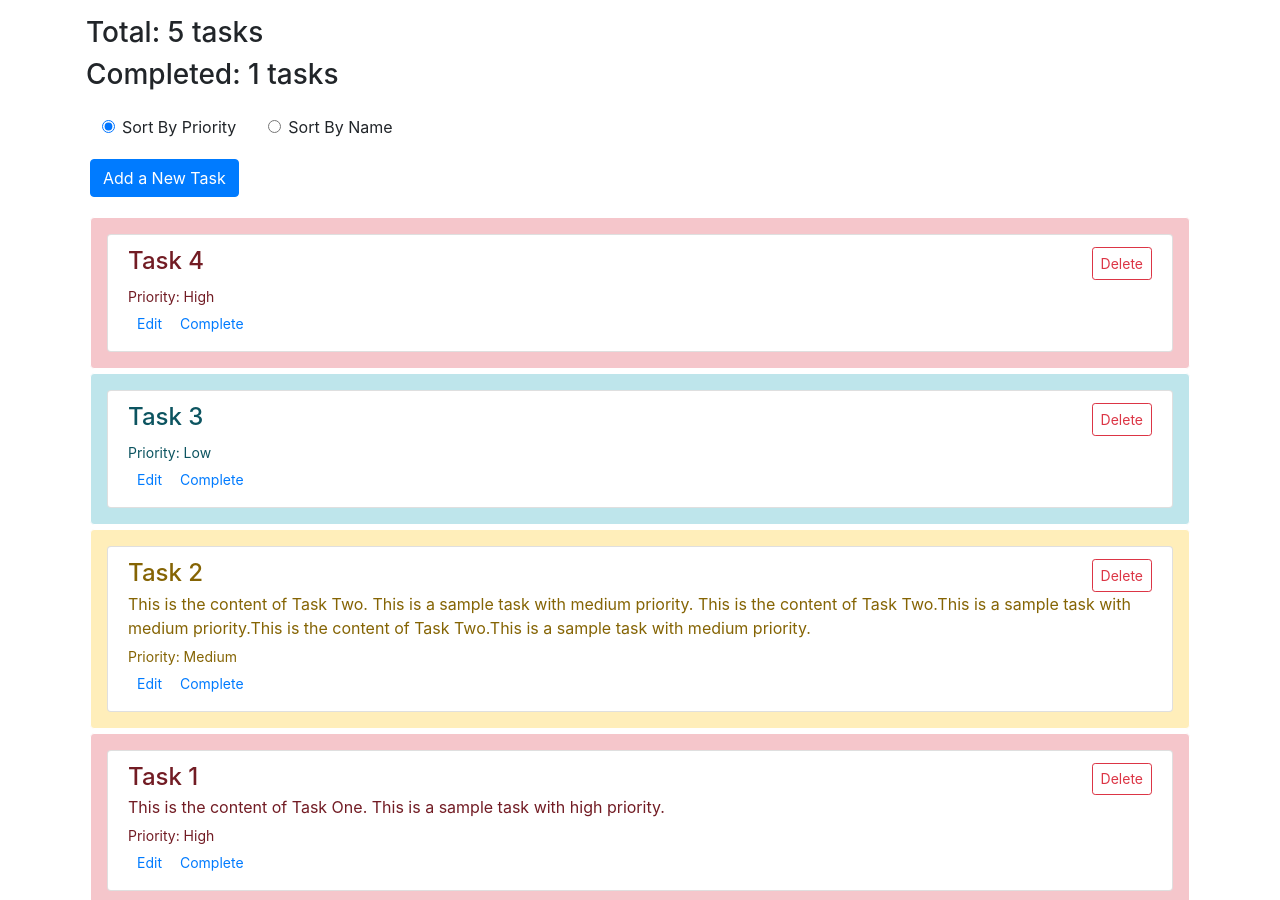
delete a task
Click the button "Delete" in the row of "Task 4" at (1122, 264), box [1092,247,1152,280]
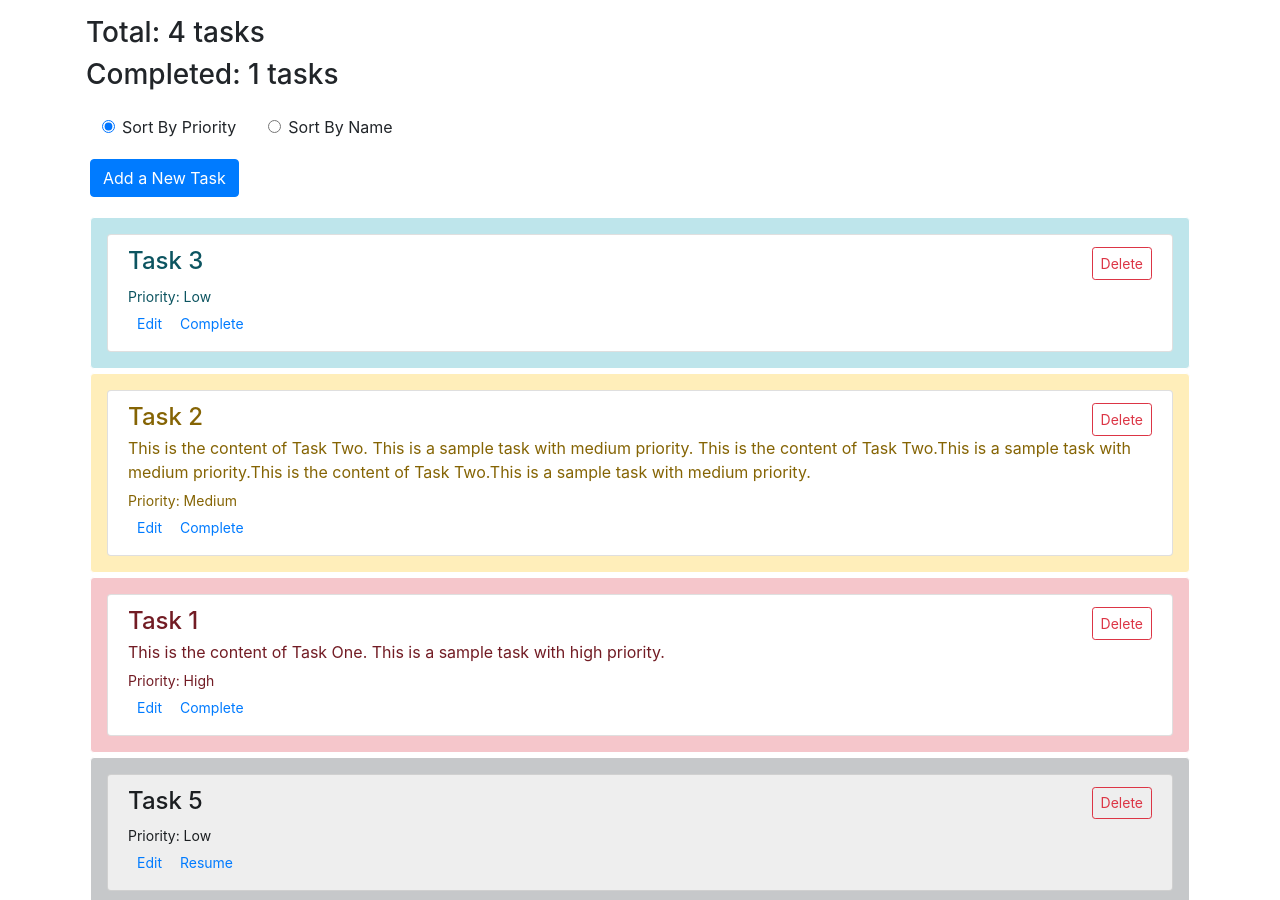
Expected: the number of buttons "Delete" is 4, [1092,247,1152,280]; [1092,403,1152,436]; [1092,607,1152,640]; [1092,787,1152,819]
Expected: the heading "Total: 4 tasks" is shown, [86,15,265,49]
